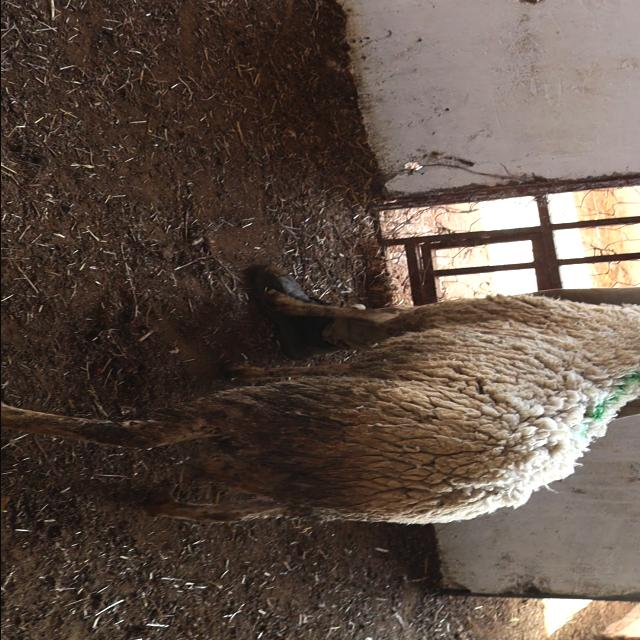Score_4: (1, 290, 640, 524)
